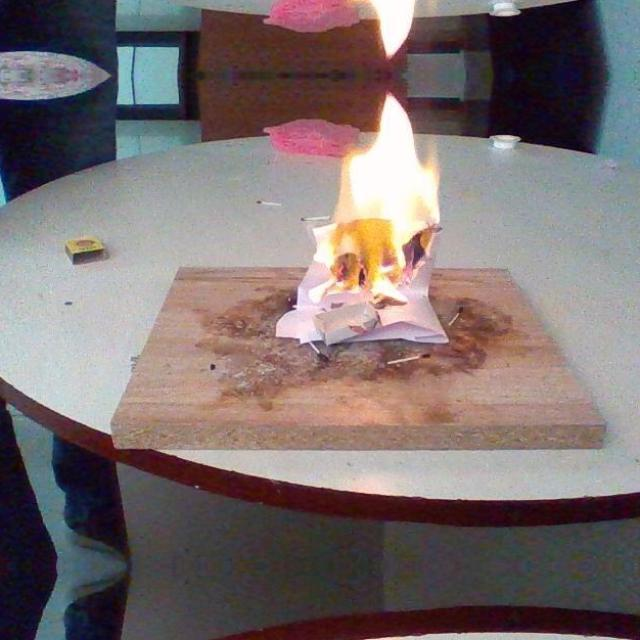smoke: (302, 92, 443, 303), (303, 0, 444, 59)
